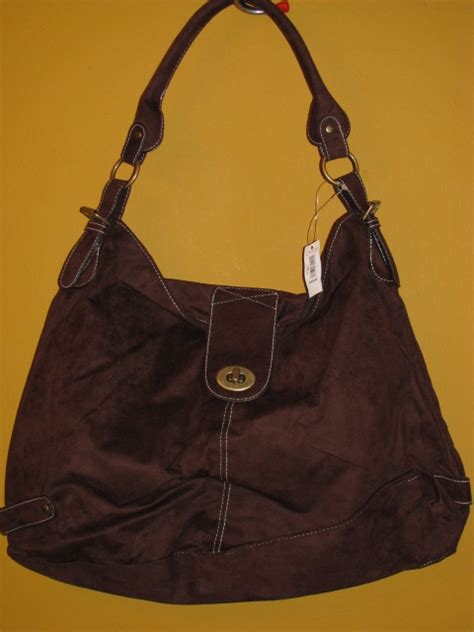gamuza: (1, 213, 474, 606)
